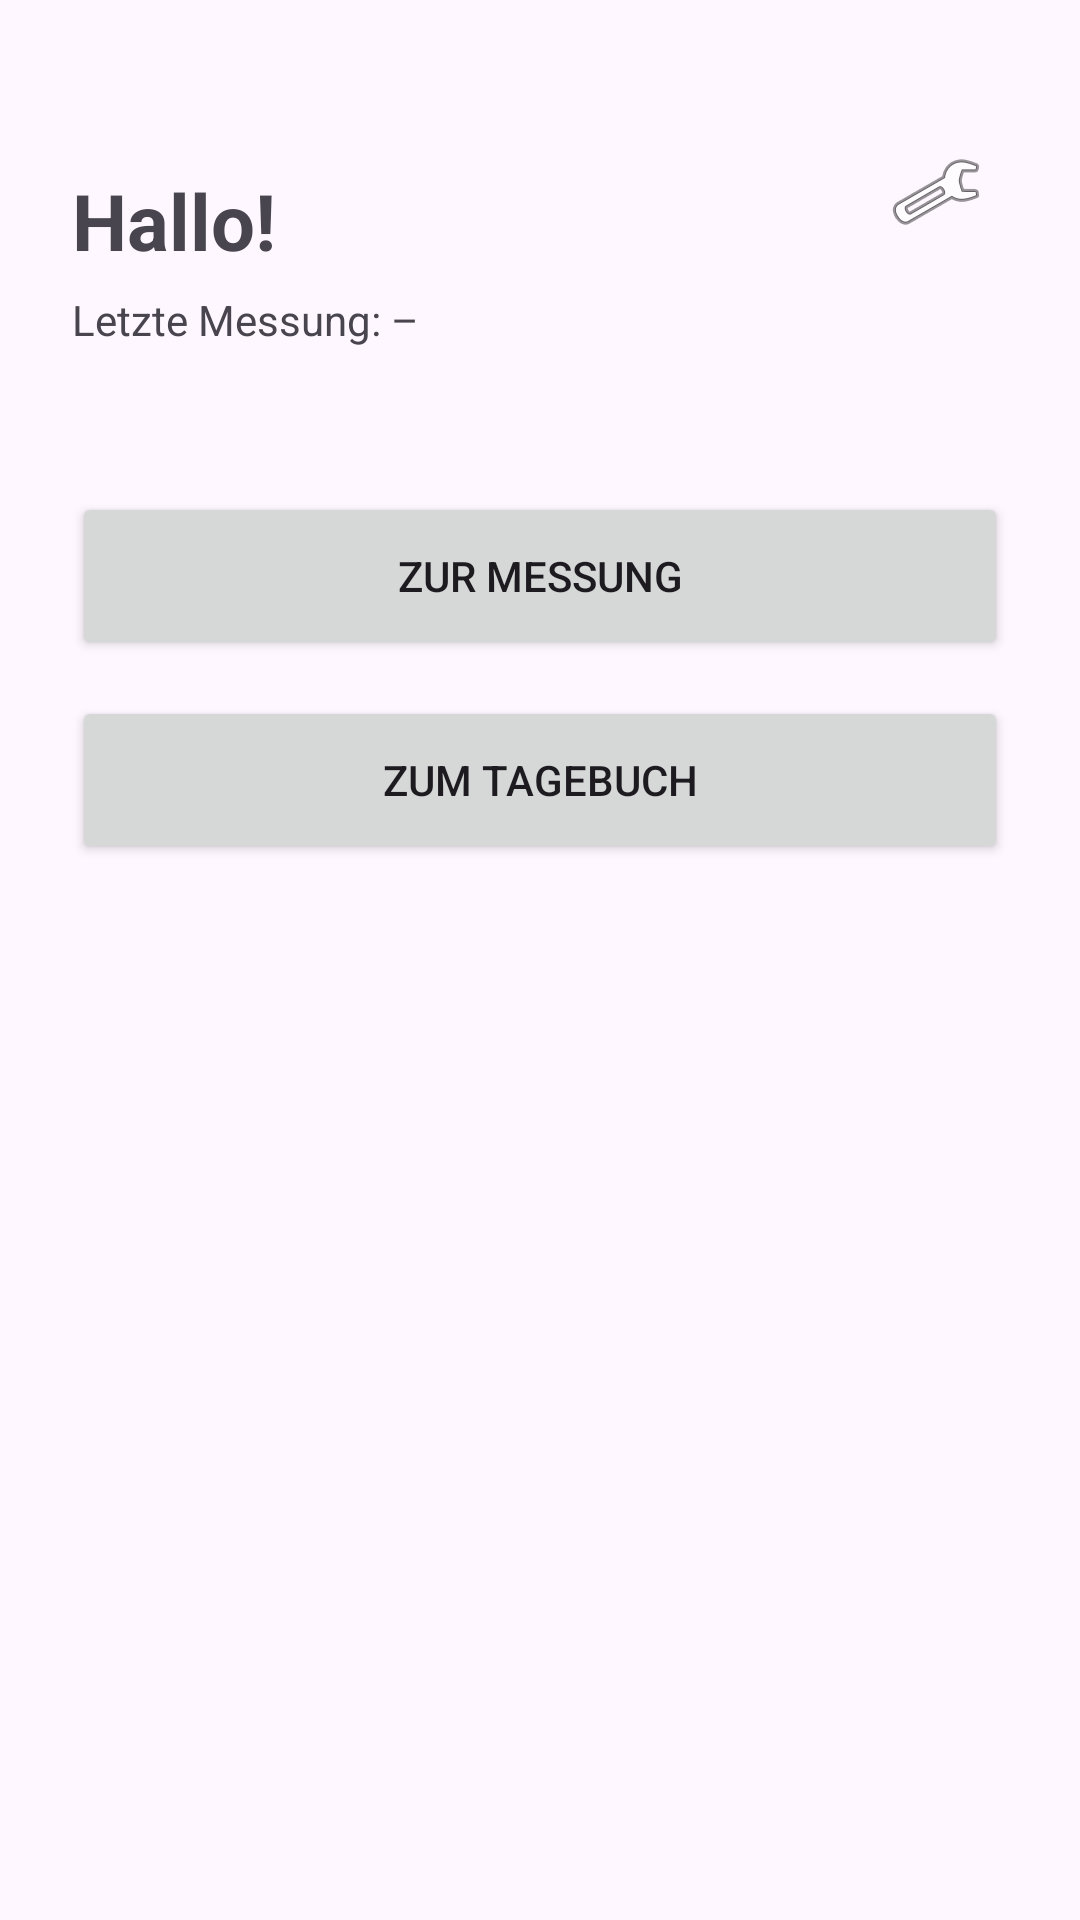

Where to tap for icons on this 1080 × 1920 app screen, as (x=x, y=y):
Einstellungen: (x=936, y=192)
